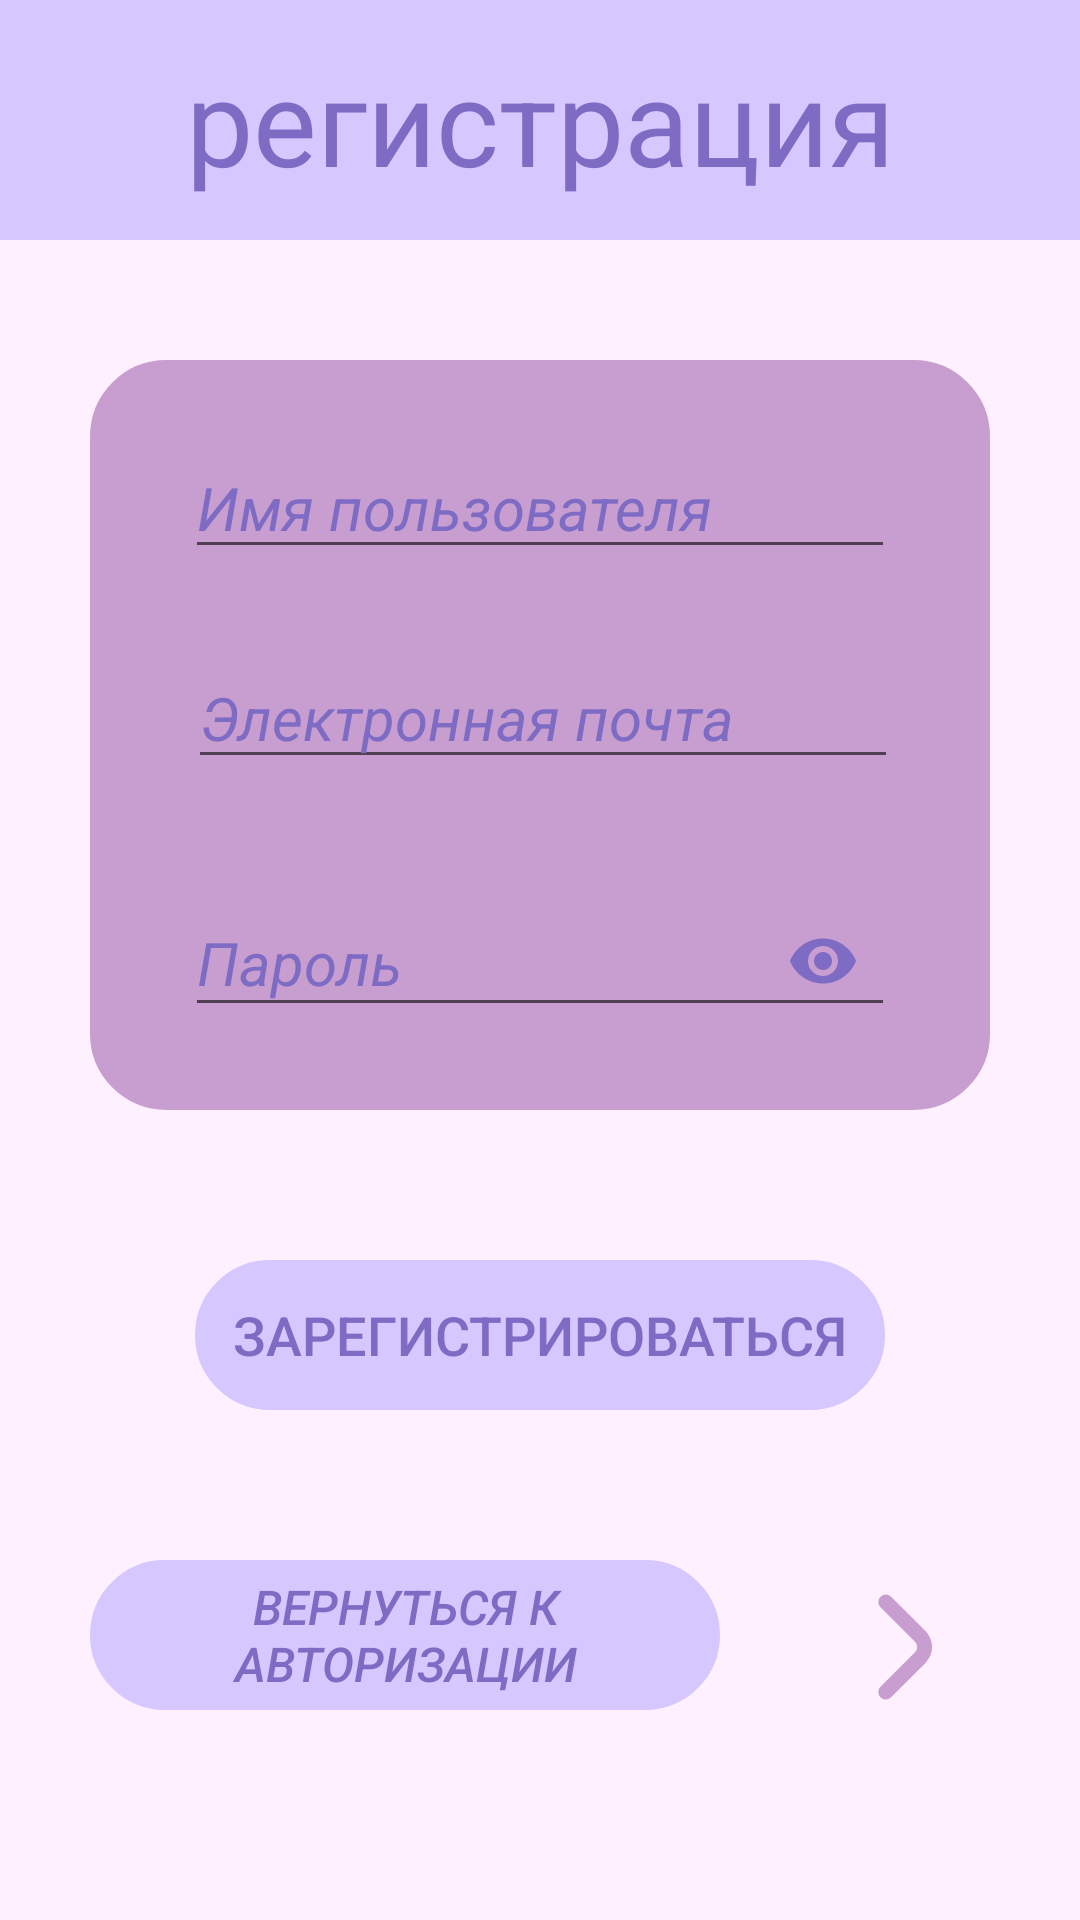

Icon click points for this 1080*1920 phone screenshot, format (x,y):
right pointer: (905,1647)
